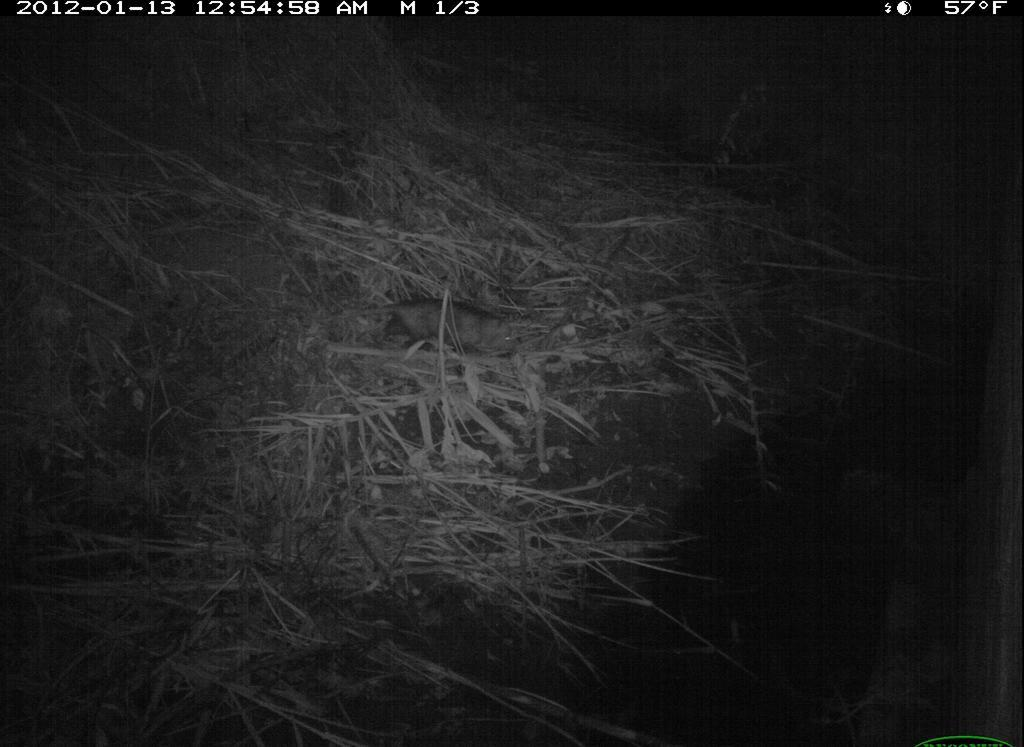opossum: (321, 280, 548, 393)
